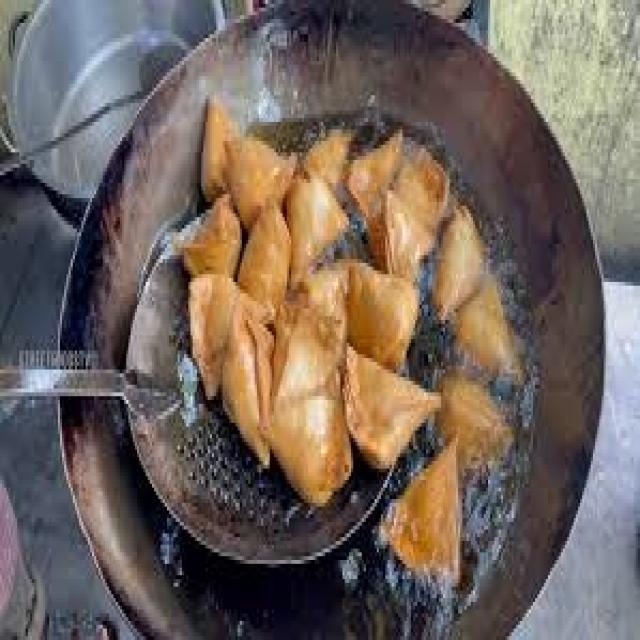SAMOSA: (339, 350, 439, 480), (385, 428, 460, 580), (272, 370, 351, 494), (216, 320, 279, 462), (345, 260, 418, 380), (229, 131, 294, 241), (286, 164, 342, 285), (436, 210, 496, 321), (187, 282, 244, 396), (442, 378, 515, 466), (460, 280, 521, 380), (237, 199, 291, 309), (179, 200, 244, 290), (293, 261, 350, 358), (342, 126, 401, 218), (381, 189, 435, 286), (197, 91, 242, 206), (395, 149, 446, 219), (305, 130, 352, 198), (366, 199, 389, 273)
